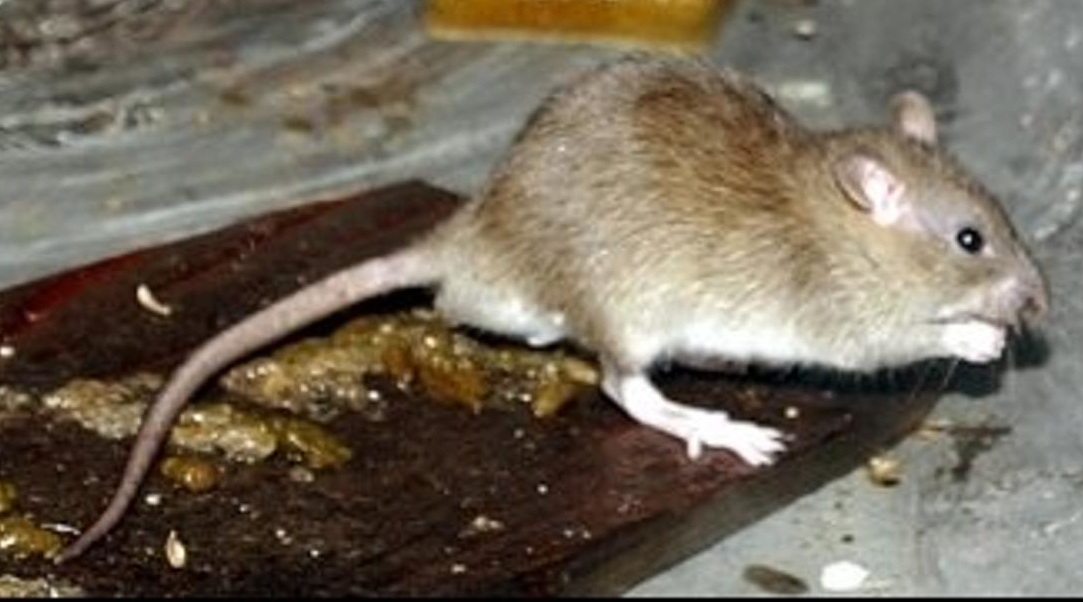rat: (119, 31, 1065, 498)
